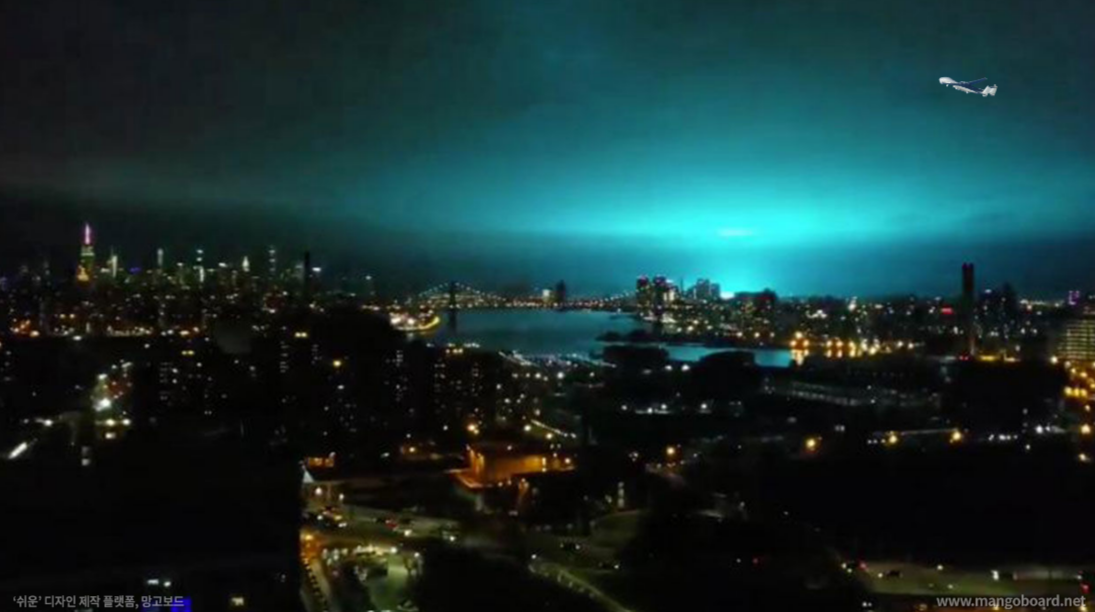military drone: (938, 75, 998, 97)
